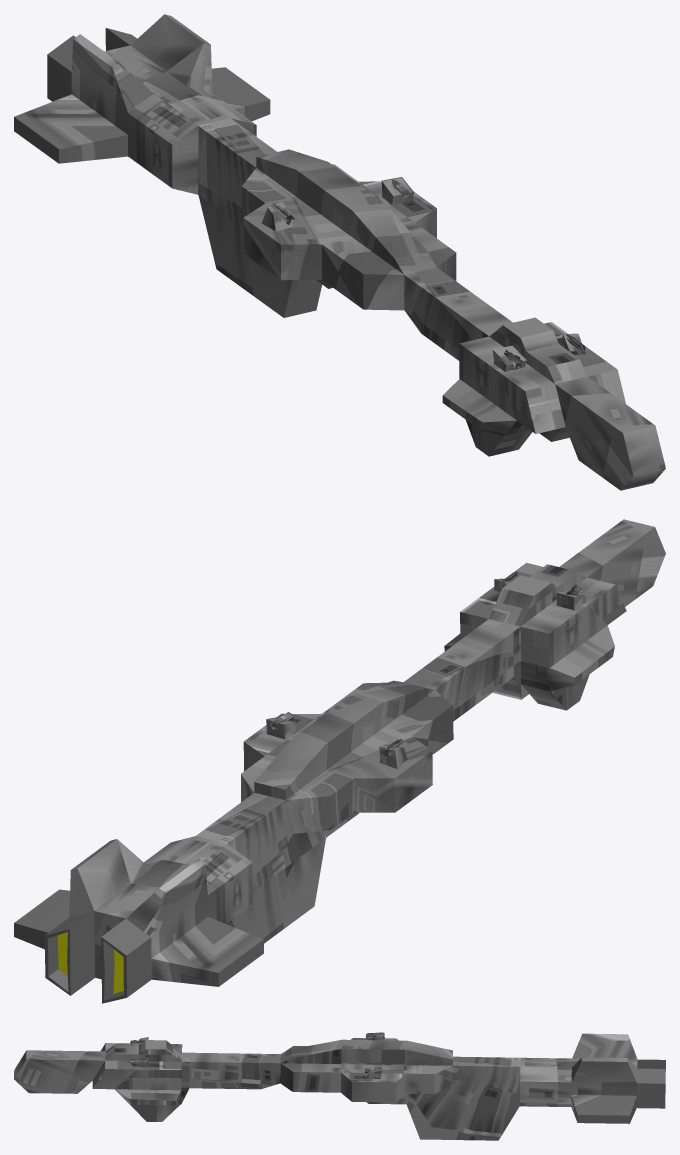
The picture shows the model from 3 angles, top to bottom: view 1: azimuth 30°, elevation 25°; view 2: azimuth 150°, elevation 25°; view 3: azimuth 270°, elevation 25°; orthographic projection. The views are drawn at different scales.
Parts seen in each view (by area): view 1: DestroyerR_Destroyer_Untitled.000; view 2: DestroyerR_Destroyer_Untitled.000; view 3: DestroyerR_Destroyer_Untitled.000.
Part boxes in pixels (left/top/right/bottom): DestroyerR_Destroyer_Untitled.000: left=14, top=14, right=665, bottom=490; DestroyerR_Destroyer_Untitled.000: left=14, top=519, right=665, bottom=1003; DestroyerR_Destroyer_Untitled.000: left=14, top=1032, right=665, bottom=1140.
Bounding box in the file's own units: 346 × 250 × 1617.
